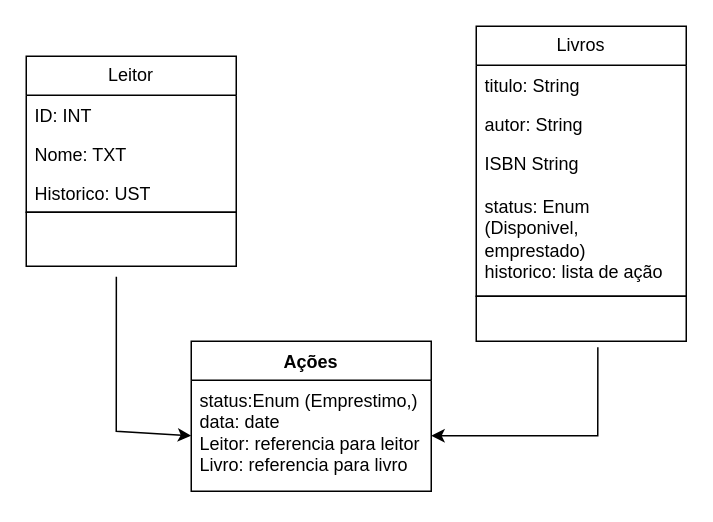
This 713x522 diagram has some shape labels left out. The shapes that lost their labels are listed below. From the top down, each one's centre as x and y in pixels, then its label:
At point (130, 238): "emprestarLivros: Livro) devolverLivro: Livro ):".
At point (580, 318): "Ser Emprestado() Ser Devolvido()".
